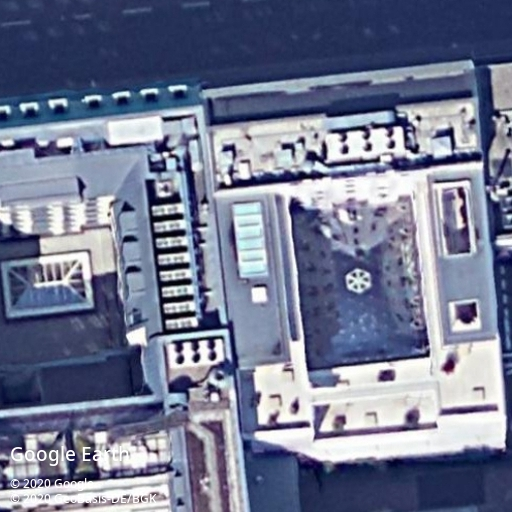Chiller: (328, 126, 405, 161), (166, 337, 225, 368)
